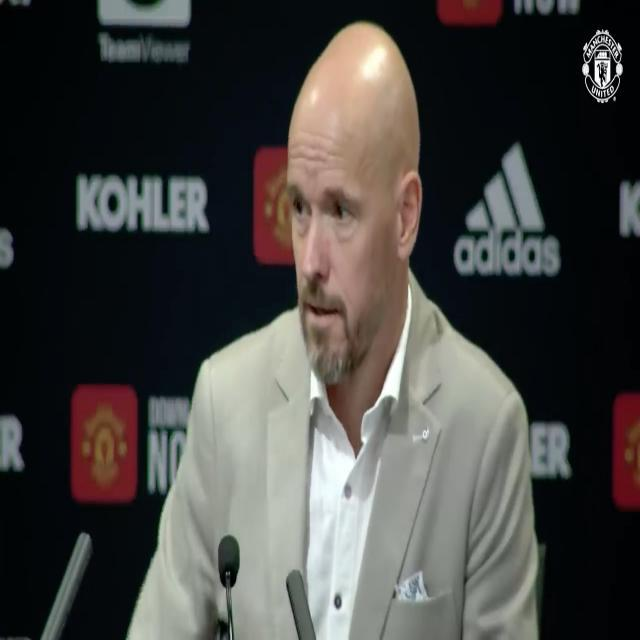Adidas: (455, 142, 561, 278)
Kohler: (77, 174, 208, 232)
TeamViewer: (99, 1, 190, 62)
